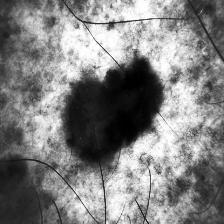Benign Marking or Mole: (63, 57, 163, 163)
